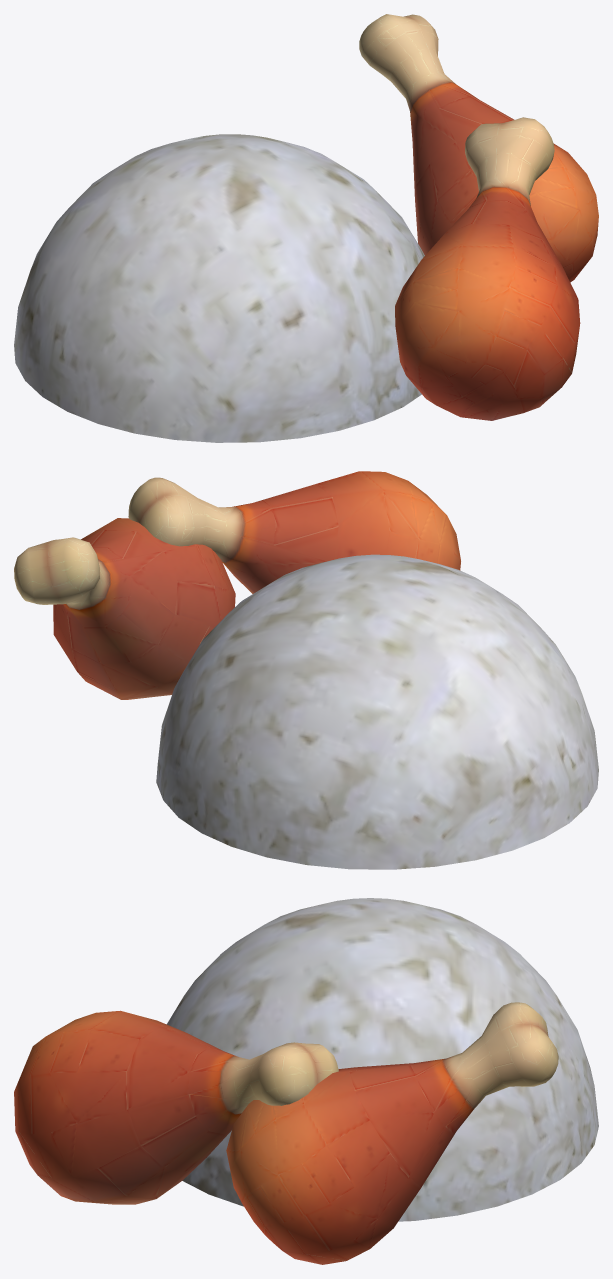
File: ChickenRice.fbx
3 renders of one model, top to bottom at view 1: azimuth 30°, elevation 25°; view 2: azimuth 150°, elevation 25°; view 3: azimuth 270°, elevation 25°, orthographic. The views are drawn at different scales.
Visible parts, largest first — view 1: Com, input.001, input.003; view 2: Com, input.003, input.001; view 3: Com, input.003, input.001.
Boxes of the visible parts, left/top/right/bottom form: Com: left=14, top=134, right=424, bottom=442; input.001: left=395, top=117, right=580, bottom=420; input.003: left=359, top=14, right=598, bottom=282; Com: left=156, top=554, right=598, bottom=869; input.003: left=14, top=518, right=235, bottom=699; input.001: left=128, top=471, right=460, bottom=593; Com: left=166, top=898, right=598, bottom=1221; input.003: left=226, top=1002, right=558, bottom=1264; input.001: left=14, top=1010, right=338, bottom=1204.
Size of the model in its own units: 277 by 118 by 256.
2 materials, 2 textured.
